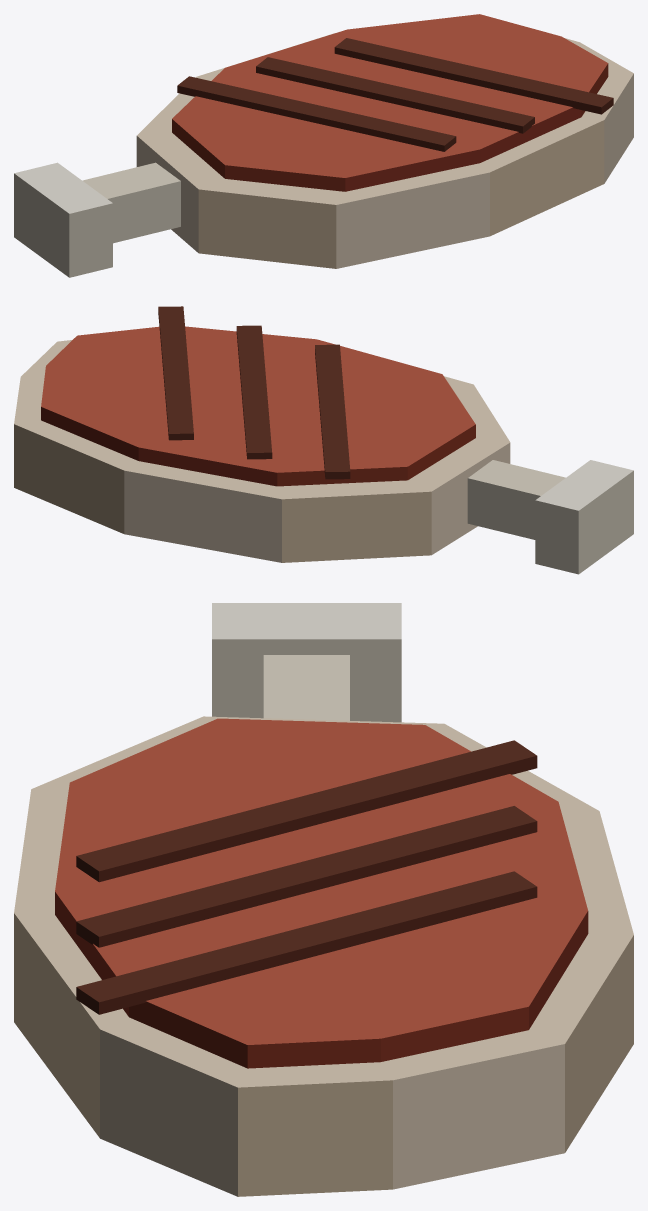
Rendered from steak.glb.
The picture shows the model from 3 angles, top to bottom: view 1: azimuth 30°, elevation 25°; view 2: azimuth 150°, elevation 25°; view 3: azimuth 270°, elevation 25°; orthographic projection. The views are drawn at different scales.
Parts seen in each view (by area): view 1: steak; view 2: steak; view 3: steak.
Boxes of the visible parts, x1,y1,x2,y2 form: steak: [14, 14, 633, 277]; steak: [14, 306, 633, 574]; steak: [14, 603, 633, 1196].
Bounding box in the file's own units: 0.5 × 0.0702 × 0.2748.
